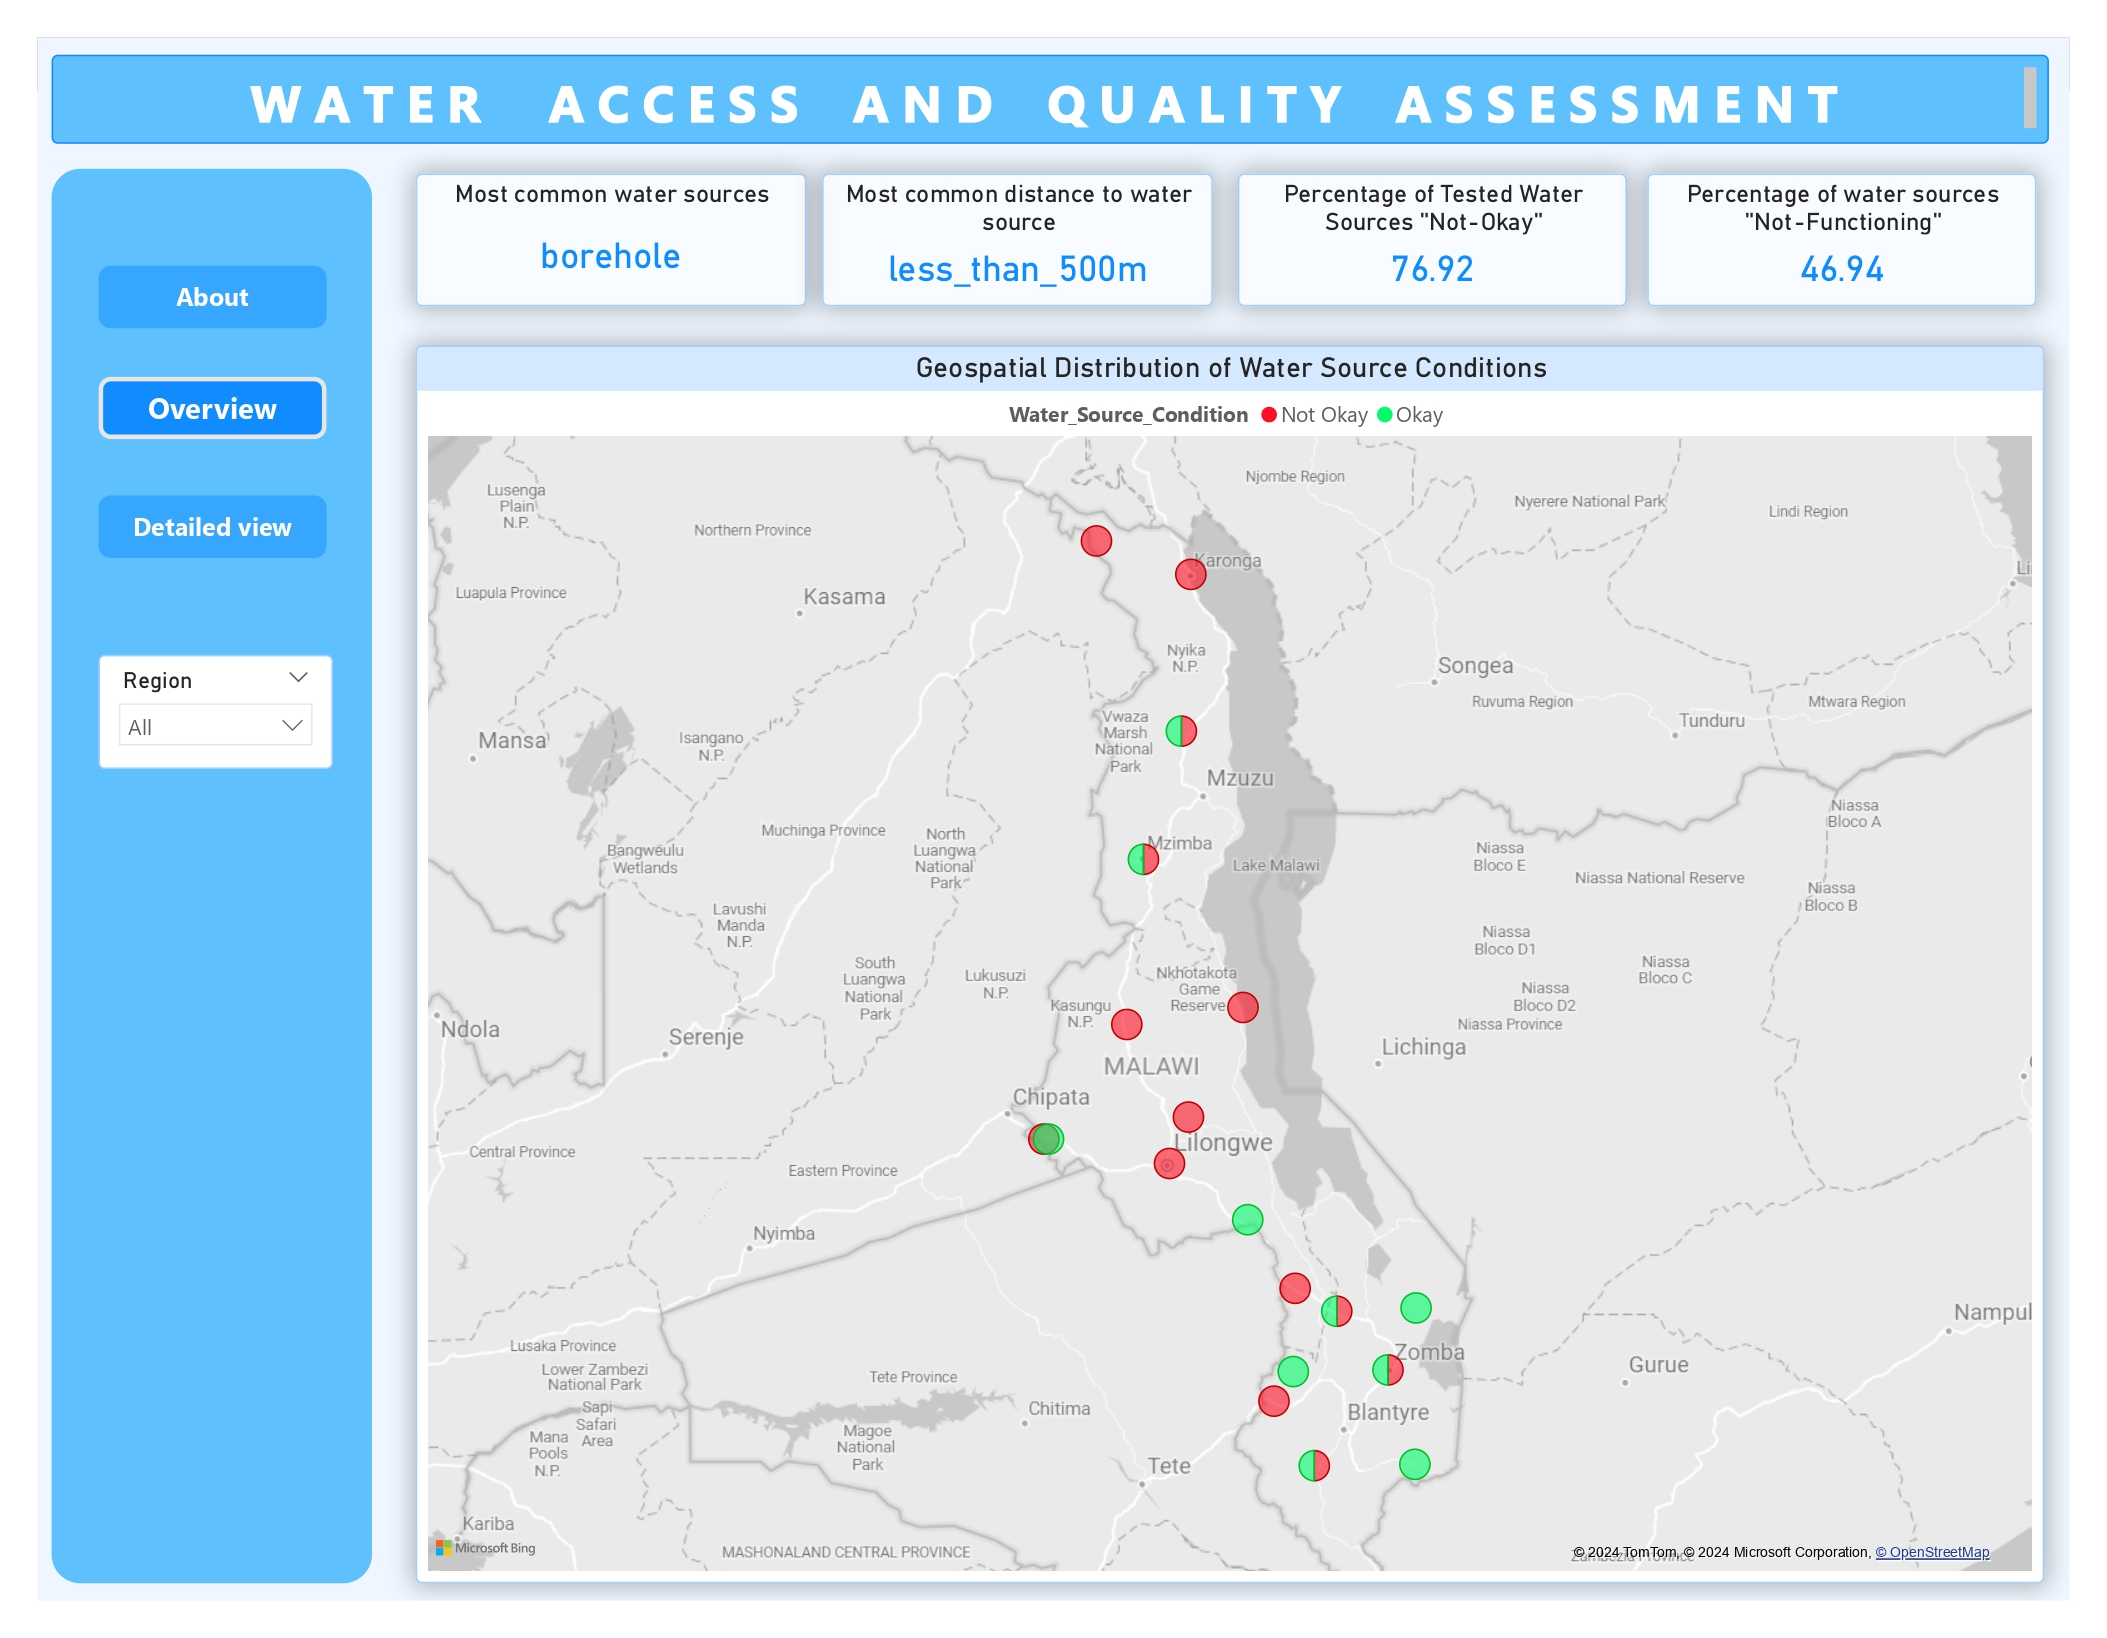

The page's visual inventory and layout, read from the dashboard file:
{"tool":"powerbi","page":{"name":"Overview","canvas":[1300,1000],"ordinal":1},"visuals":[{"type":"textbox","box":[9.3,10.9,1277.9,57.4],"z":0},{"type":"shape","box":[9.3,83.7,204.7,905.7],"z":1000},{"type":"actionButton","box":[38.8,145.8,145.8,40.3],"z":2000},{"type":"actionButton","box":[38.8,217.1,145.8,40.3],"z":3000},{"type":"actionButton","box":[38.8,293.1,145.8,40.3],"z":4000},{"type":"card","title":"Most common water sources","fields":{"Values":["?format=json.BestWaterSource"]},"box":[241.9,86.8,250,85.3],"z":5000},{"type":"card","title":"Percentage of Tested Water Sources \"Not-Okay\"","fields":{"Values":["?format=json.PercentageOkayWaterSources"]},"box":[767.7,86.8,249.7,85.3],"z":6000},{"type":"card","title":"Most common distance to water source","fields":{"Values":["?format=json.MostChosenWaterSourceDistance"]},"box":[502.5,86.8,249.7,85.3],"z":7000},{"type":"card","title":"Percentage of water sources \"Not-Functioning\"","fields":{"Values":["?format=json.FunctionalWaterSourcePercentage"]},"box":[1029.8,86.8,249.7,85.3],"z":8000},{"type":"map","title":"Geospatial Distribution of Water Source Conditions","fields":{"Series":["?format=json.Water_Source_Condition"],"Y":["?format=json._geolocation.0"],"X":["?format=json._geolocation.1"]},"box":[241.9,197,1042.2,792.5],"z":9000},{"type":"slicer","fields":{"Values":["?format=json.section_1/region"]},"box":[38.8,395.5,150.4,72.9],"z":10000}]}

Visuals, with their boxes on the page's 1300x1000 design canvas (x1, y1, x2, y2). These are canvas units, not pixel positions in the 2107x1638 screenshot, which may show the page scaled, cropped or inside an application window:
textbox: Rect(9, 11, 1287, 68)
shape: Rect(9, 84, 214, 989)
actionButton: Rect(39, 146, 185, 186)
actionButton: Rect(39, 217, 185, 257)
actionButton: Rect(39, 293, 185, 333)
"Most common water sources" card: Rect(242, 87, 492, 172)
"Percentage of Tested Water Sources "Not-Okay"" card: Rect(768, 87, 1017, 172)
"Most common distance to water source" card: Rect(502, 87, 752, 172)
"Percentage of water sources "Not-Functioning"" card: Rect(1030, 87, 1280, 172)
"Geospatial Distribution of Water Source Conditions" map: Rect(242, 197, 1284, 990)
slicer - ?format=json.section_1/region: Rect(39, 396, 189, 468)
